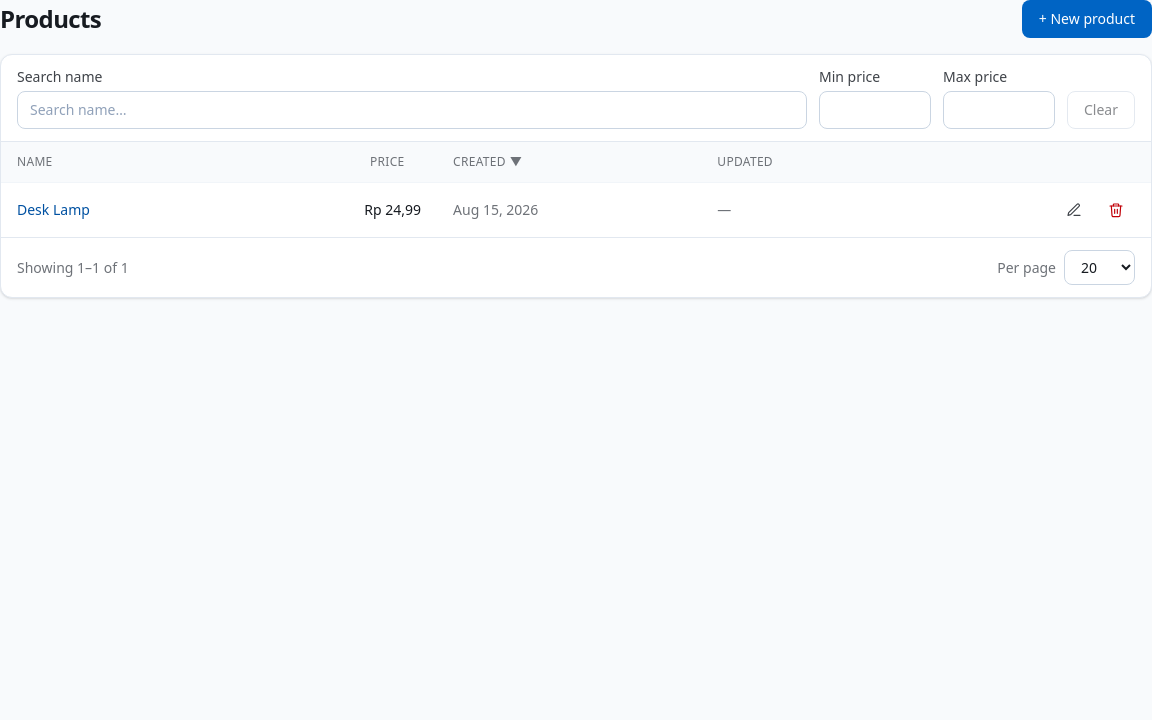
Test: delete › treats a 404 as success, because the product is gone either way
Click the button named "Delete Desk Lamp": point(1116, 210) x1=1097 y1=195 x2=1135 y2=225
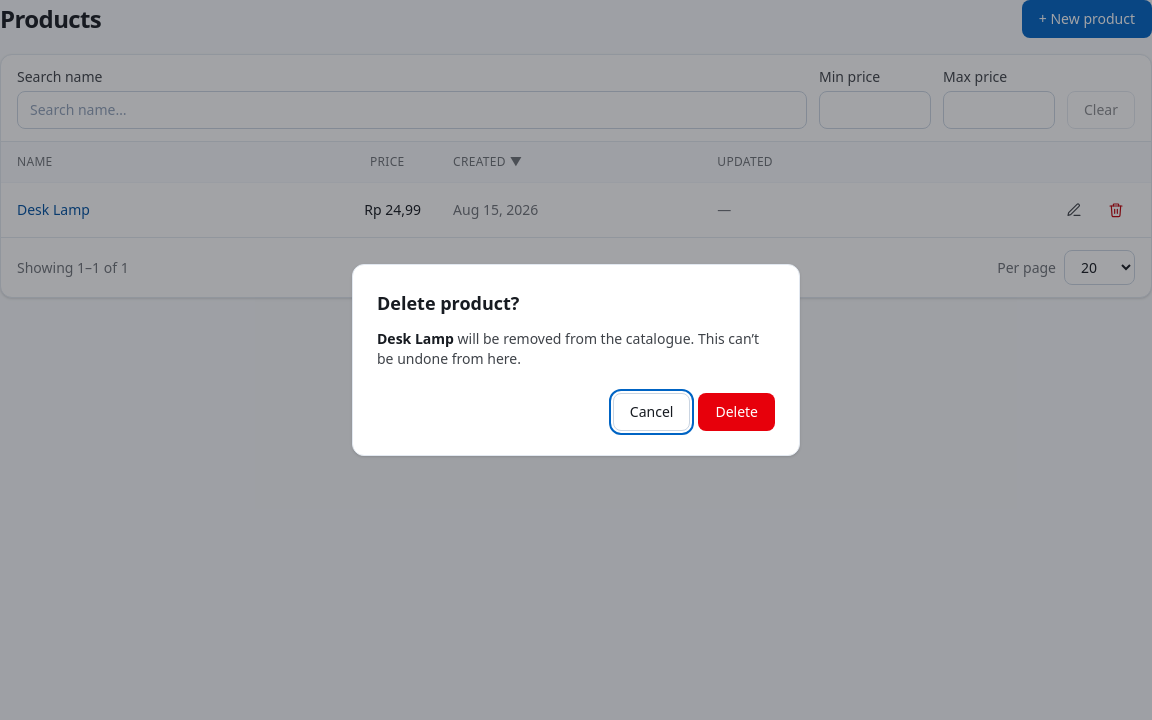
Click the button "Delete": point(737, 412) x1=698 y1=393 x2=775 y2=431
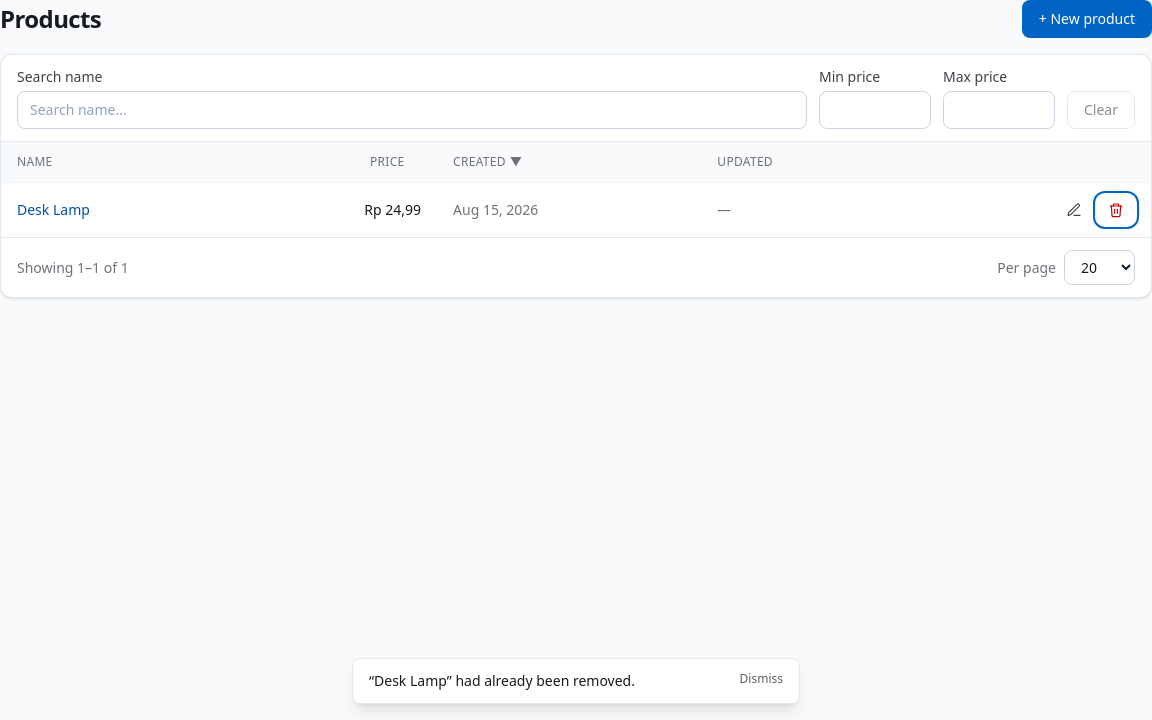
Expected: the text "“Desk Lamp” had already been removed." is shown, x1=369 y1=671 x2=635 y2=691
